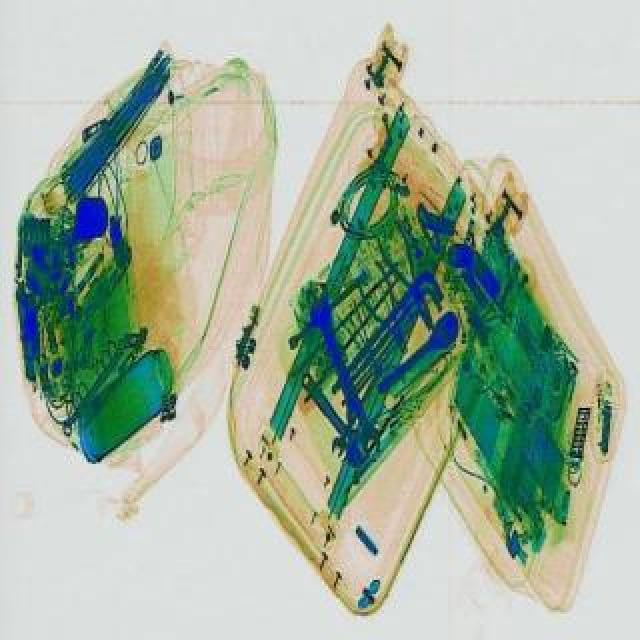scissors: (294, 280, 386, 454), (288, 366, 374, 466)
wrench: (366, 216, 450, 334), (346, 258, 422, 360)
